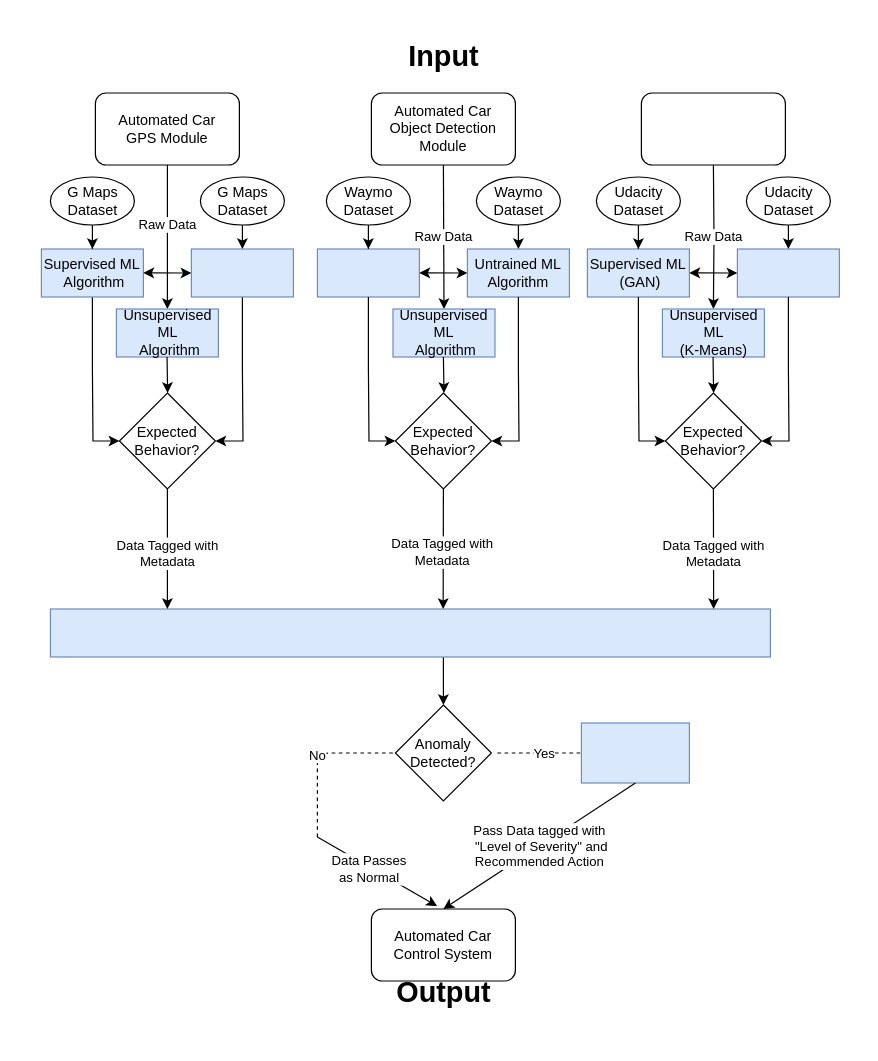
This 878x1061 diagram has some shape labels left out. The shapes that lost their labels are listed below. From the top down, each one's box as (x1, y1, x2, y2) in pixels, then its label:
(640, 92, 785, 165): Automated Car Road Sign Module
(190, 248, 293, 297): Semi-Supervised ML Algorithm
(316, 248, 419, 297): Trained ML Algorithm
(736, 248, 839, 297): Semi-Supervised ML (CNN)
(49, 608, 770, 657): Output Controller
(580, 722, 689, 783): Determine Level of Severity
